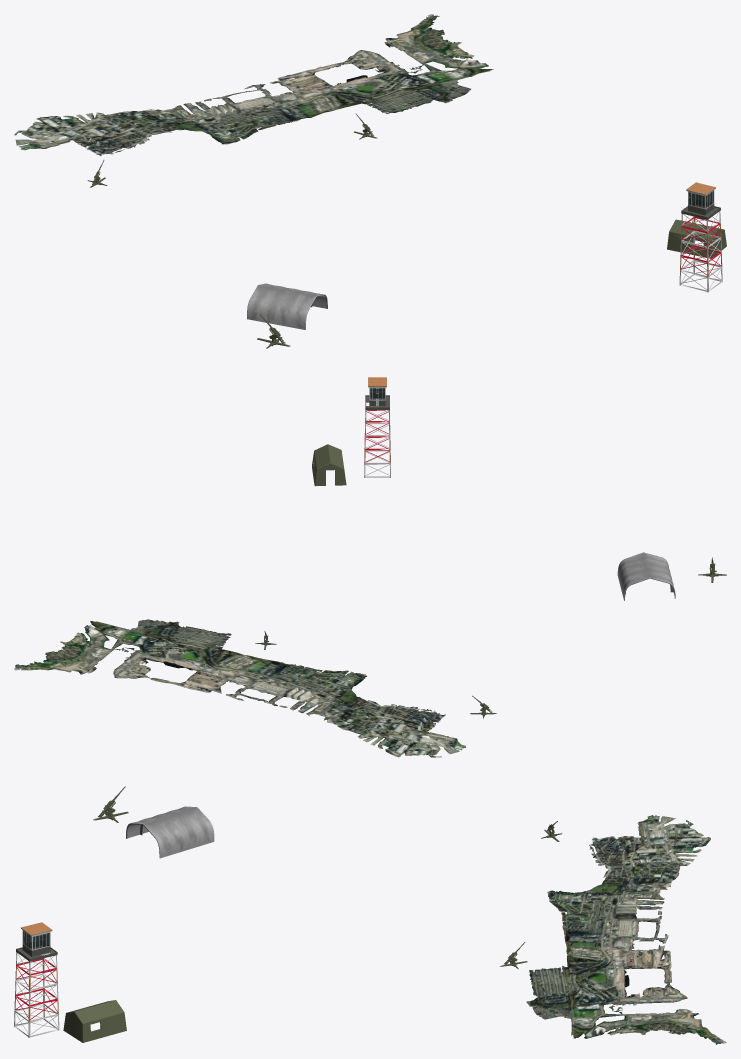
File: Portsmouth.glb
The picture shows the model from 3 angles, top to bottom: view 1: azimuth 30°, elevation 25°; view 2: azimuth 150°, elevation 25°; view 3: azimuth 270°, elevation 25°; orthographic projection. The views are drawn at different scales.
Parts seen in each view (by area): view 1: VLPDevonport, defaultMaterial.263, clothBuilding001_Material #67_0, Box001_Main Tent_0; view 2: VLPDevonport, defaultMaterial.263, clothBuilding001_Material #67_0, Box001_Main Tent_0; view 3: VLPDevonport, defaultMaterial.263, clothBuilding001_Material #67_0, Box001_Main Tent_0.
Boxes of the visible parts, box(x1,y1,x2,y2) form: VLPDevonport: box(14, 14, 493, 156); defaultMaterial.263: box(679, 182, 722, 292); clothBuilding001_Material #67_0: box(247, 283, 327, 329); Box001_Main Tent_0: box(667, 219, 726, 258); VLPDevonport: box(14, 619, 465, 757); defaultMaterial.263: box(364, 377, 390, 477); clothBuilding001_Material #67_0: box(617, 552, 675, 600); Box001_Main Tent_0: box(312, 444, 346, 486); VLPDevonport: box(526, 815, 726, 1044); defaultMaterial.263: box(14, 922, 59, 1037); clothBuilding001_Material #67_0: box(126, 806, 214, 858); Box001_Main Tent_0: box(63, 1000, 126, 1042).
Bounding box in the file's own units: 213 × 41.82 × 269.
Materials: 14 (6 with a texture image).
